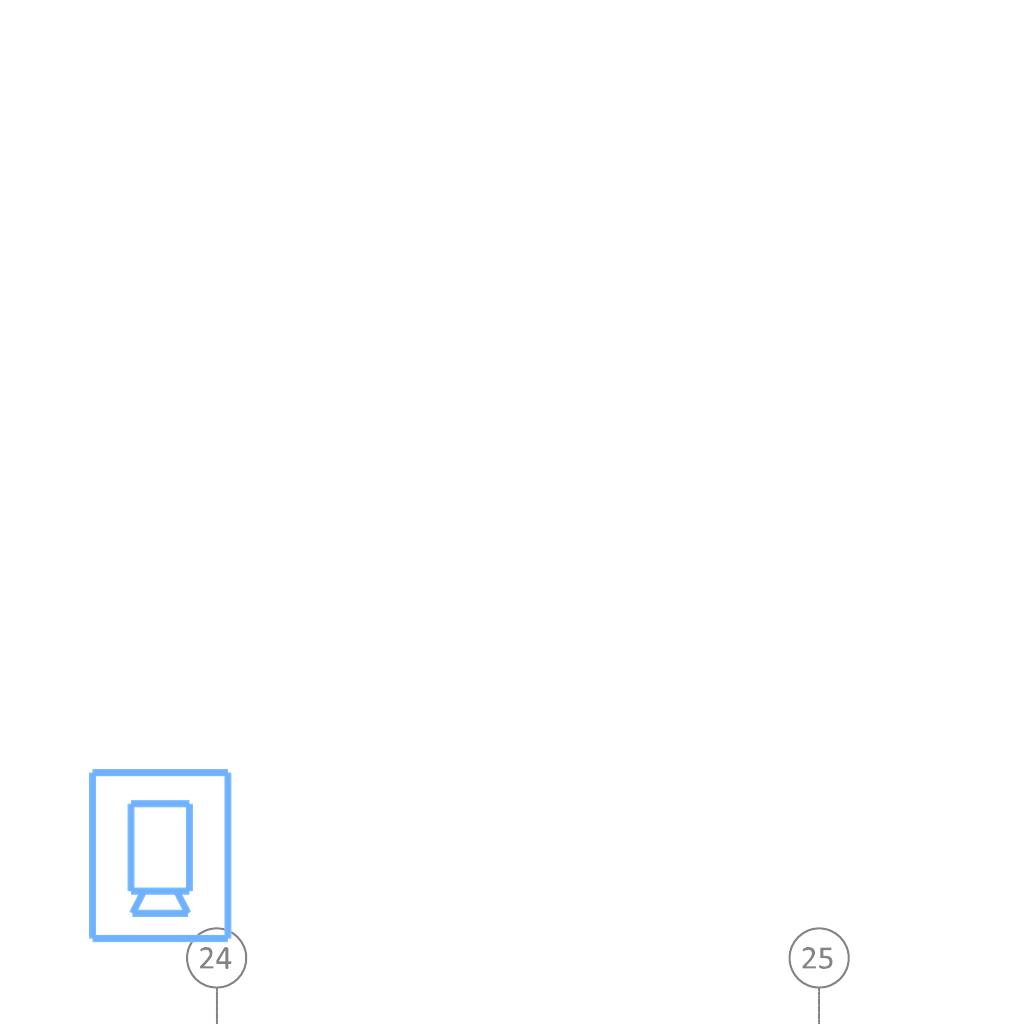KFO_Kamera_mit_Festobjektiv: (82, 764, 236, 946)
